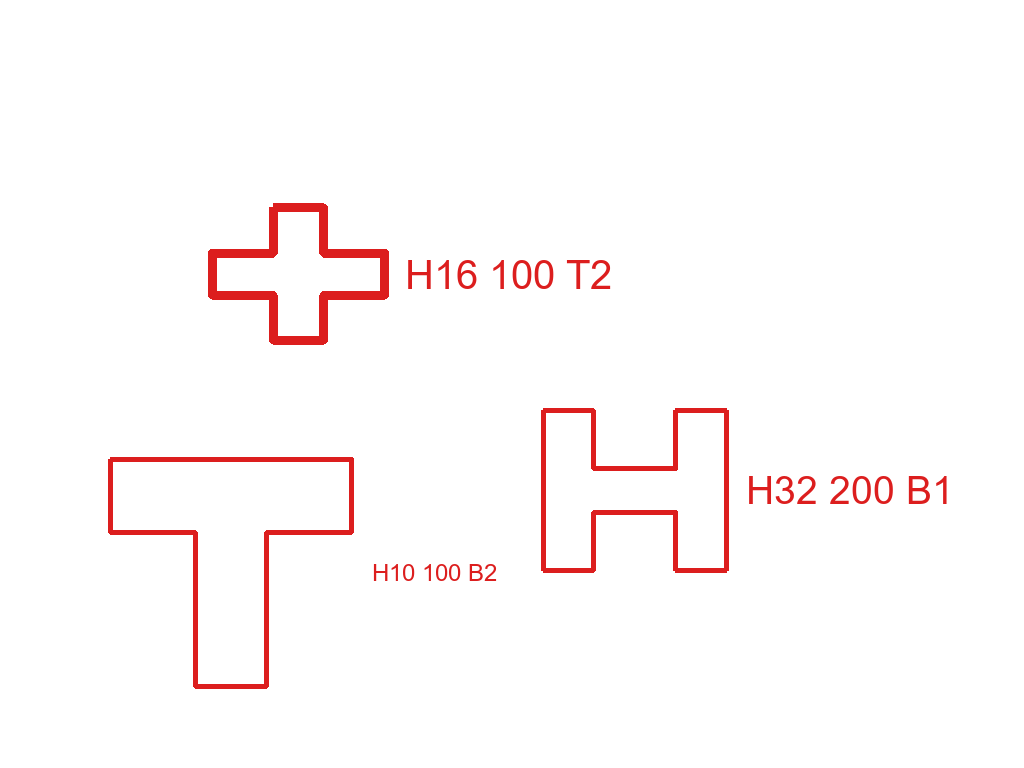shape: (106, 455, 356, 691), (539, 406, 731, 575), (206, 201, 391, 347)
text: (403, 258, 614, 291), (744, 474, 956, 506), (370, 562, 499, 583)
